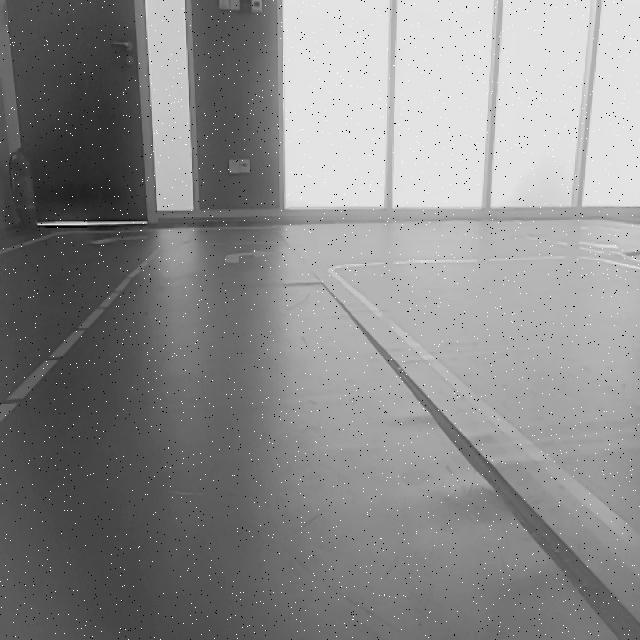left_lane: (3, 251, 156, 425)
right_lane: (332, 270, 640, 576)
